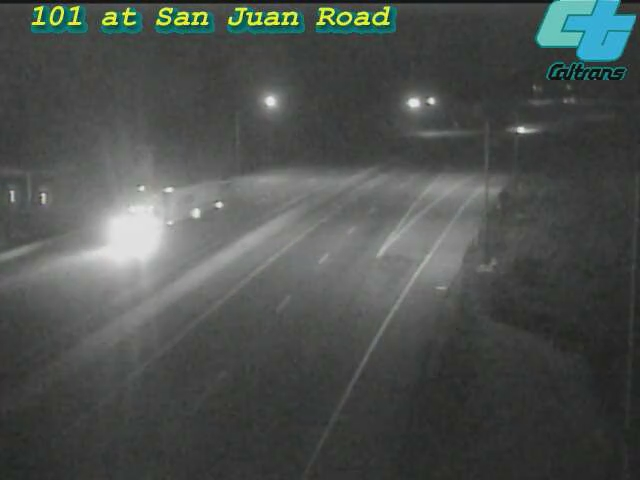vehicle: (118, 171, 198, 251), (497, 106, 547, 156)
